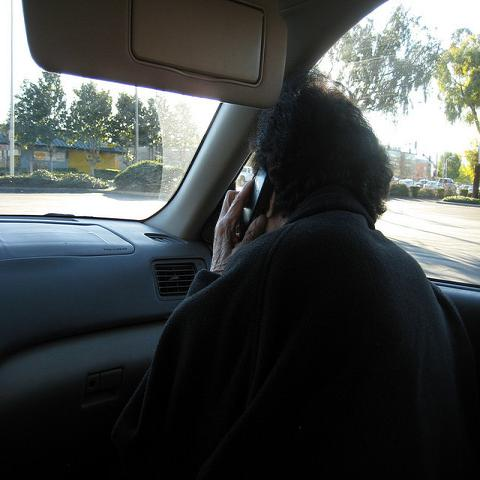car: (437, 177, 460, 190), (423, 181, 438, 191), (400, 179, 417, 187), (415, 179, 429, 188), (388, 176, 399, 184), (457, 185, 465, 194), (468, 188, 473, 196), (462, 185, 470, 190)
